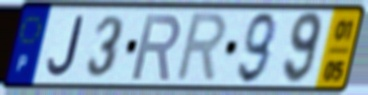3: (85, 14, 126, 81)
9: (279, 9, 323, 88), (236, 10, 280, 87)
J: (45, 14, 86, 79)
R: (172, 10, 230, 85), (129, 11, 183, 82)
